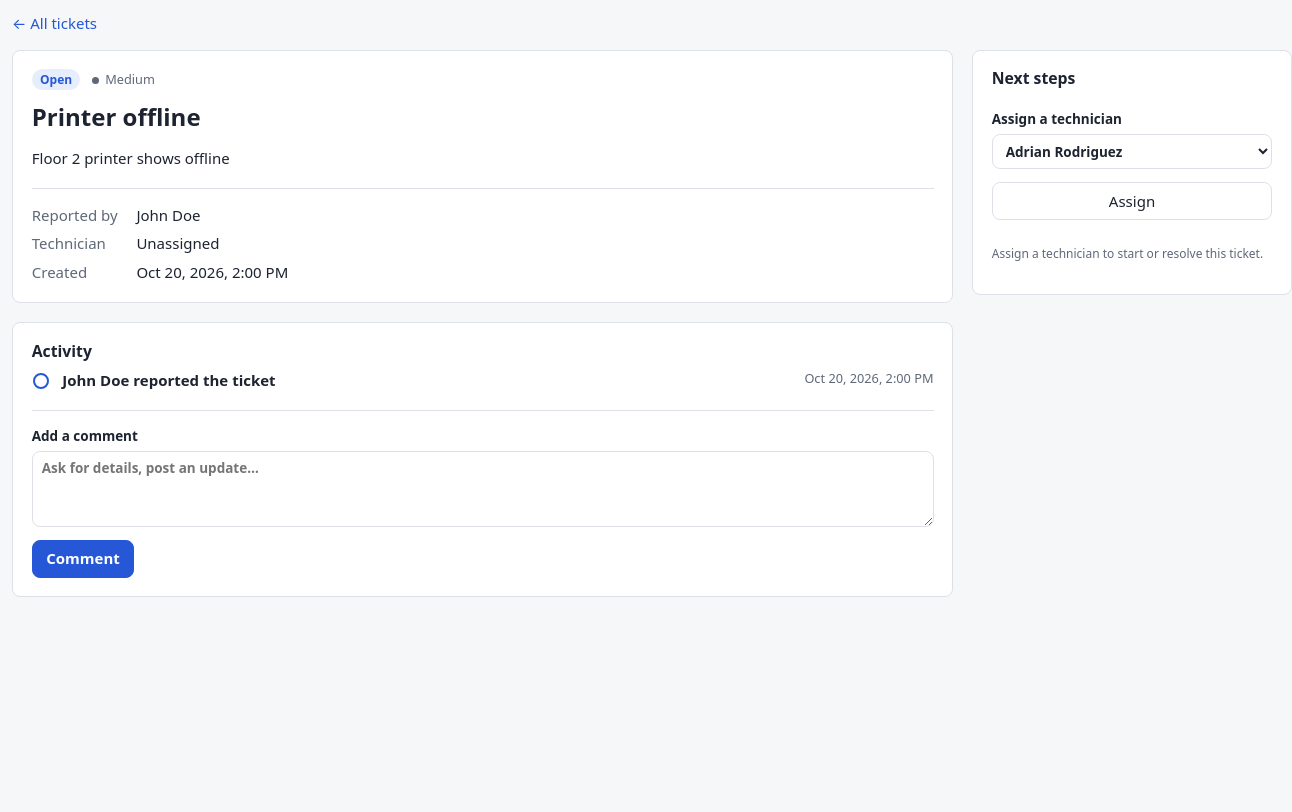
Test: TicketDetailPage › posts a comment as the signed-in user and adds it to the history
The width and height of the screenshot is (1292, 812).
Expected: the text "John Doe reported the ticket" is shown, 62,369 -> 276,391
Type "Coming by at 3" into the text box at (483, 489), box 32,451 -> 934,527
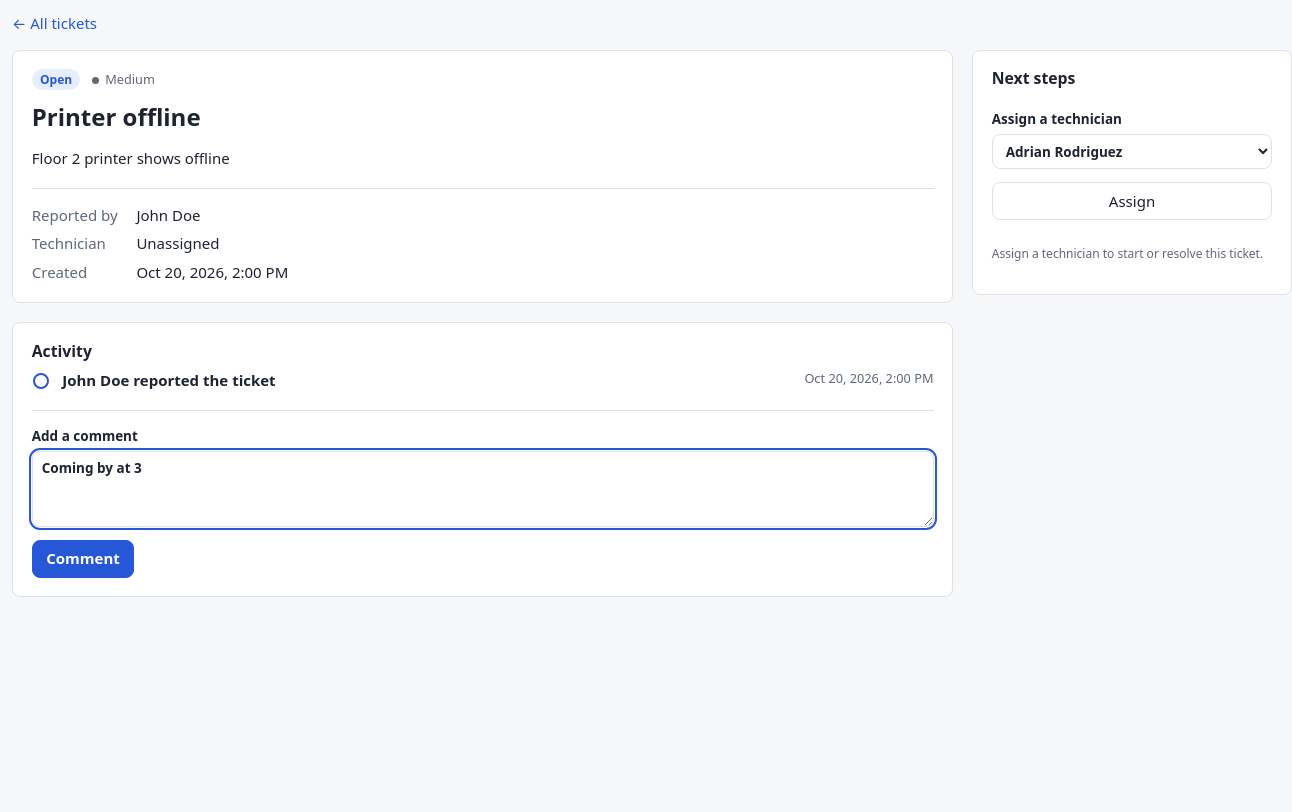
Click the button "Comment" at (83, 559), box 32,540 -> 134,578
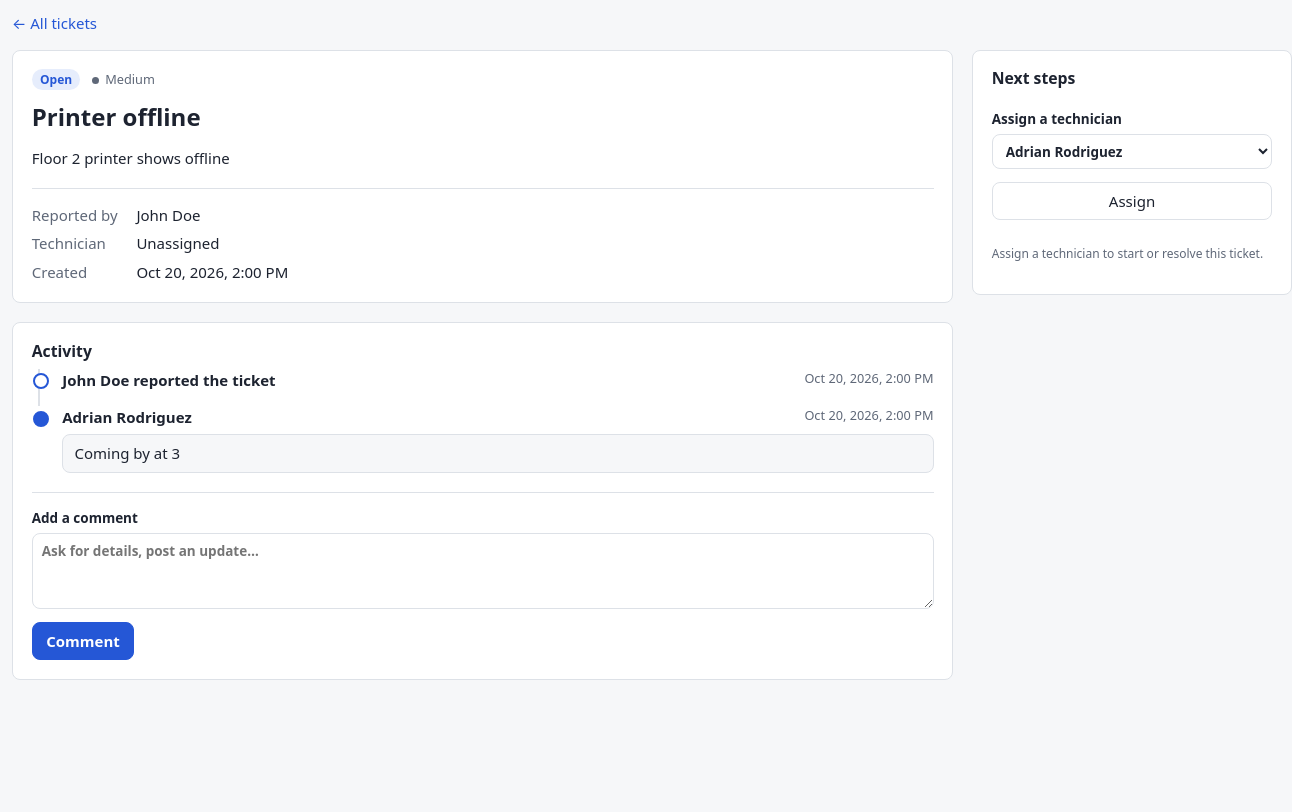
Expected: the text "Coming by at 3" is shown, 62,434 -> 934,473
Expected: the text box is empty, 32,533 -> 934,609
